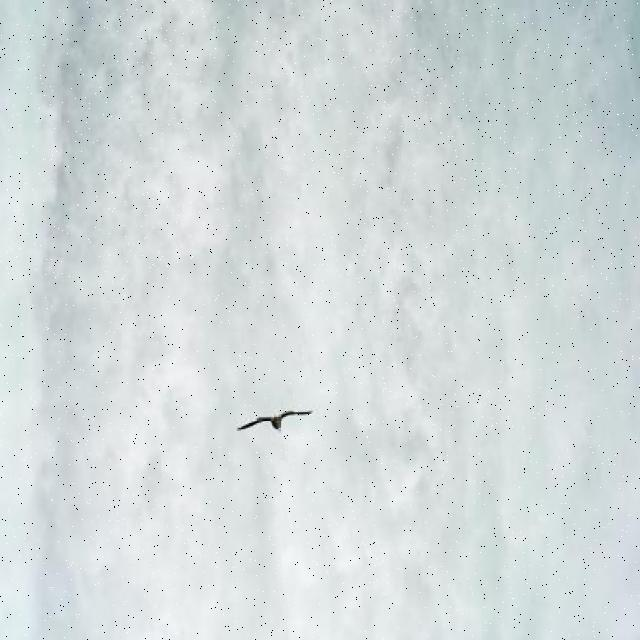bird: (238, 410, 313, 433)
